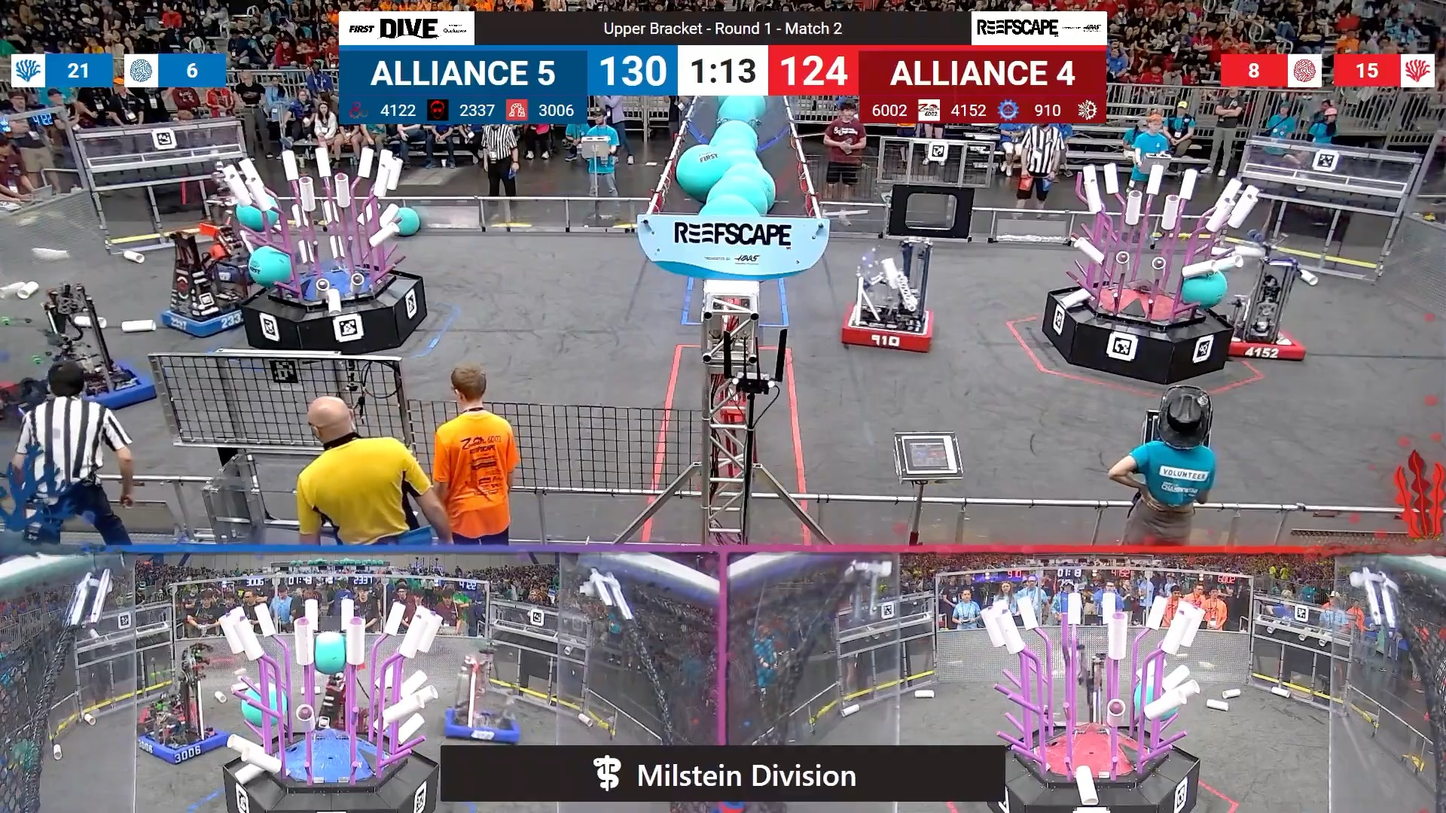bumpers: (35, 358, 160, 410), (832, 299, 941, 358), (129, 722, 236, 769), (1217, 317, 1313, 366), (151, 297, 252, 342), (435, 703, 525, 748)
